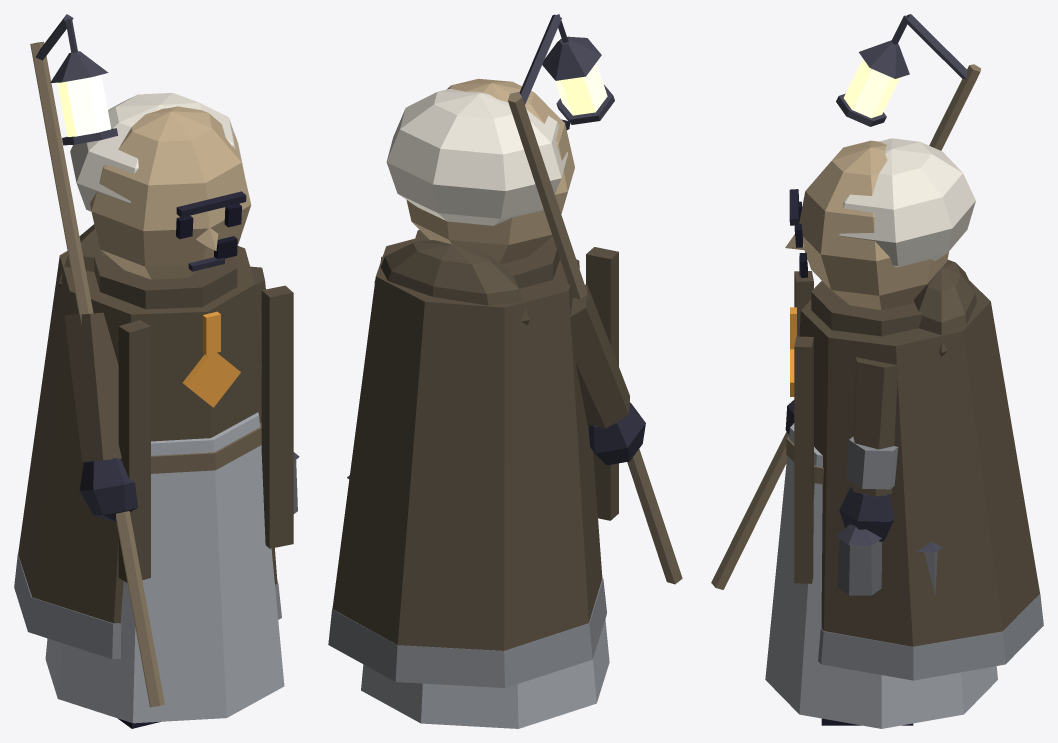
File: lamp_named.glb
3 views of the same model, side by side, from view 1: azimuth 30°, elevation 25°; view 2: azimuth 150°, elevation 25°; view 3: azimuth 270°, elevation 25° (orthographic). The views are drawn at different scales.
Parts seen in each view (by area): view 1: Torso, Head, ArmR, ArmL; view 2: Torso, Head, ArmR; view 3: Torso, Head, ArmR, ArmL.
Part boxes in pixels (x1,y1,x2,y2): Torso: (14,224,299,723); Head: (70,93,251,279); ArmR: (30,14,164,707); ArmL: (250,266,265,368); Torso: (328,230,618,728); Head: (386,78,574,264); ArmR: (508,14,682,584); Torso: (765,259,1043,728); Head: (785,138,975,310); ArmR: (711,14,980,589); ArmL: (839,357,901,541).
Bounding box in the file's own units: 0.74 × 2.02 × 0.9438.
